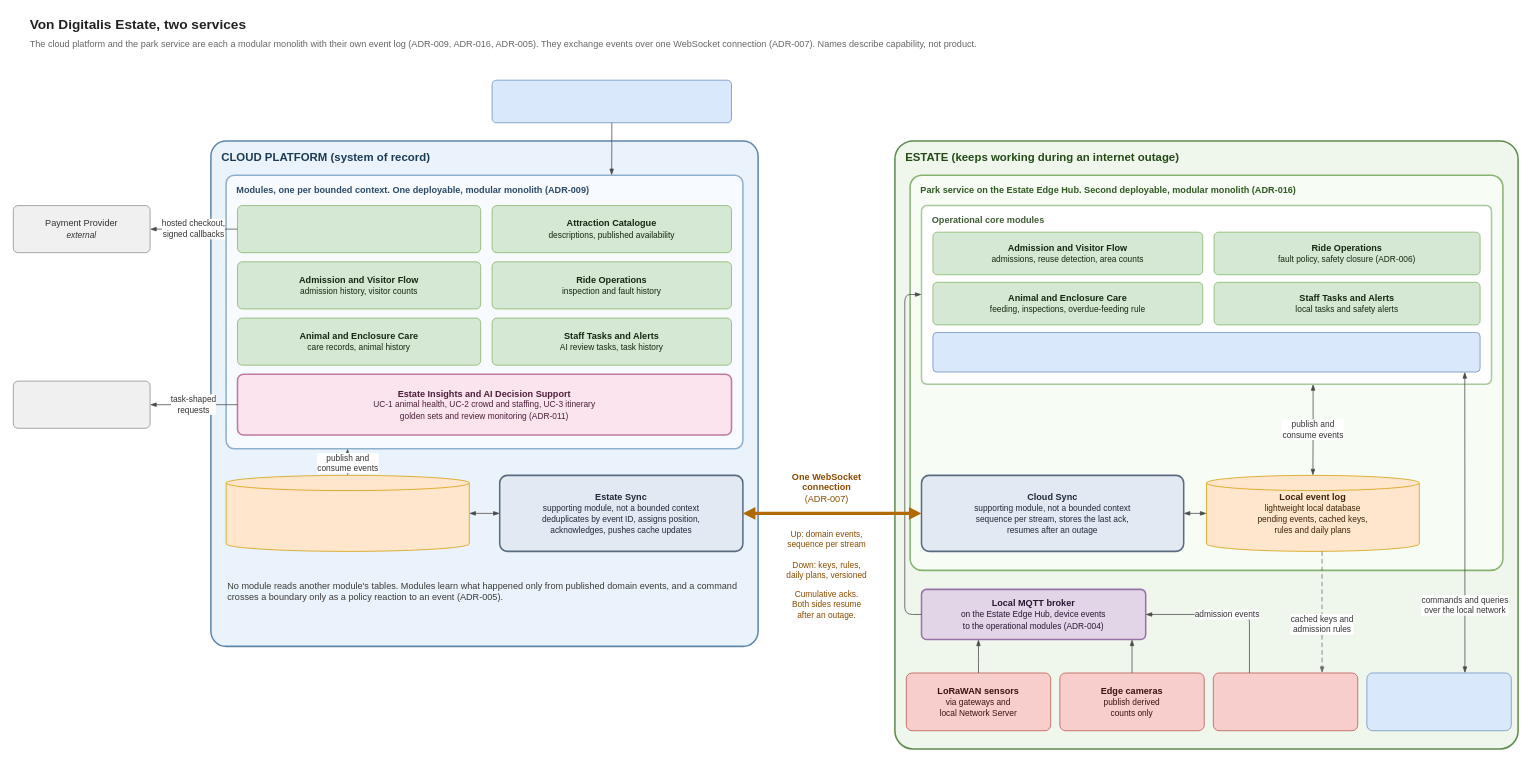
This 1532x762 diagram has some shape labels left out. Each missing label, with the centre of its shape:
AI model provider external, replaceable: (81,404)
Cloud event log append-only, authoritative module state is a projection: (347,513)
Gates verify signed tickets offline (ADR-008): (1285,701)
Local estate view and API serves the local staff application: (1206,352)
Local staff application keepers, mechanics, operations: (1438,701)
Ticketing products, purchase, issuance holds the only account store (ADR-013): (359,229)
Visitor website and application: (611,101)
